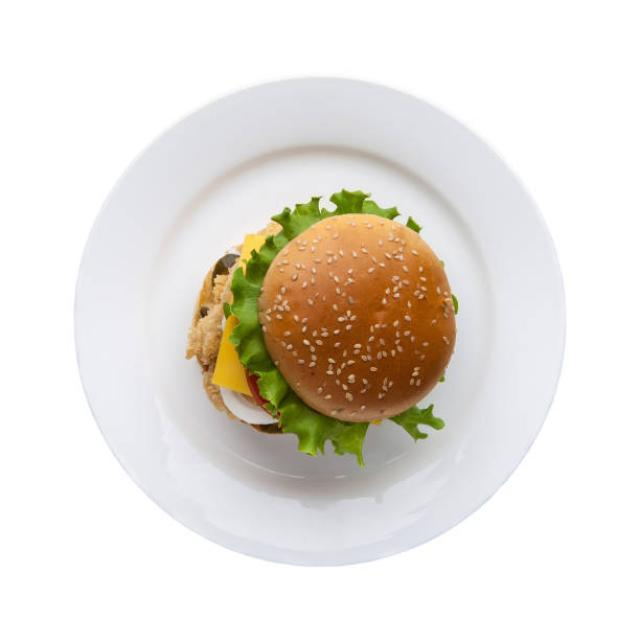Hamburger: (183, 185, 467, 455)
